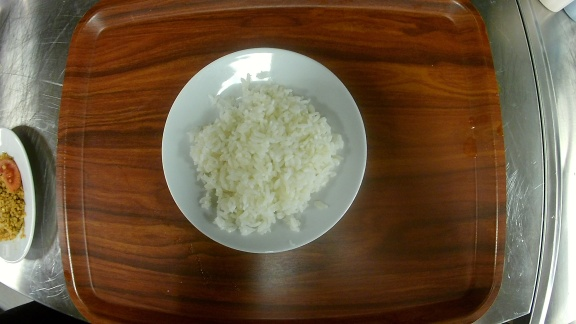pilav: (161, 47, 368, 254)
